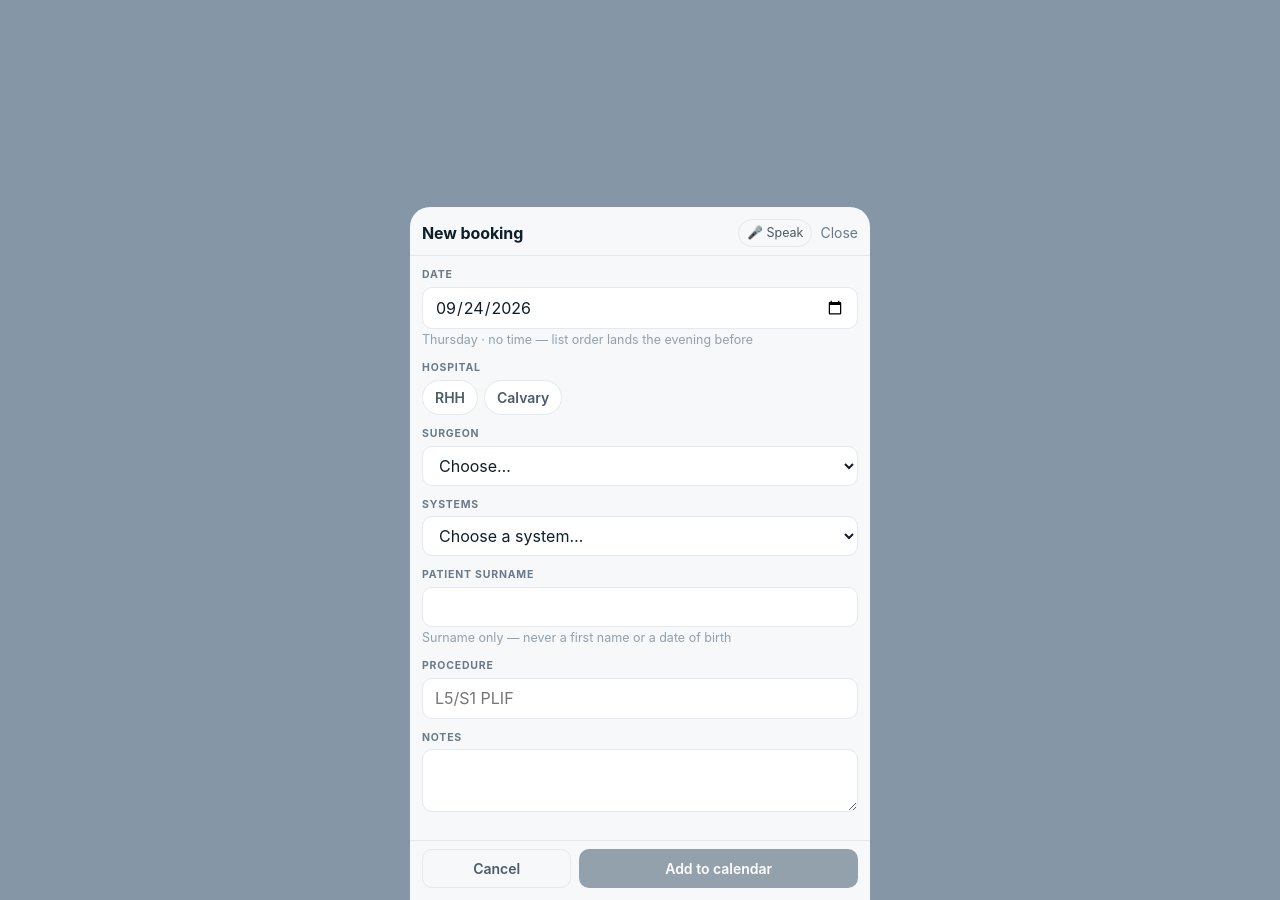
it: the question a booking raises › says nothing to order for the same system at RHH
This screenshot has width=1280, height=900.
Click the button "RHH" at (450, 397), box [422,380,478,415]
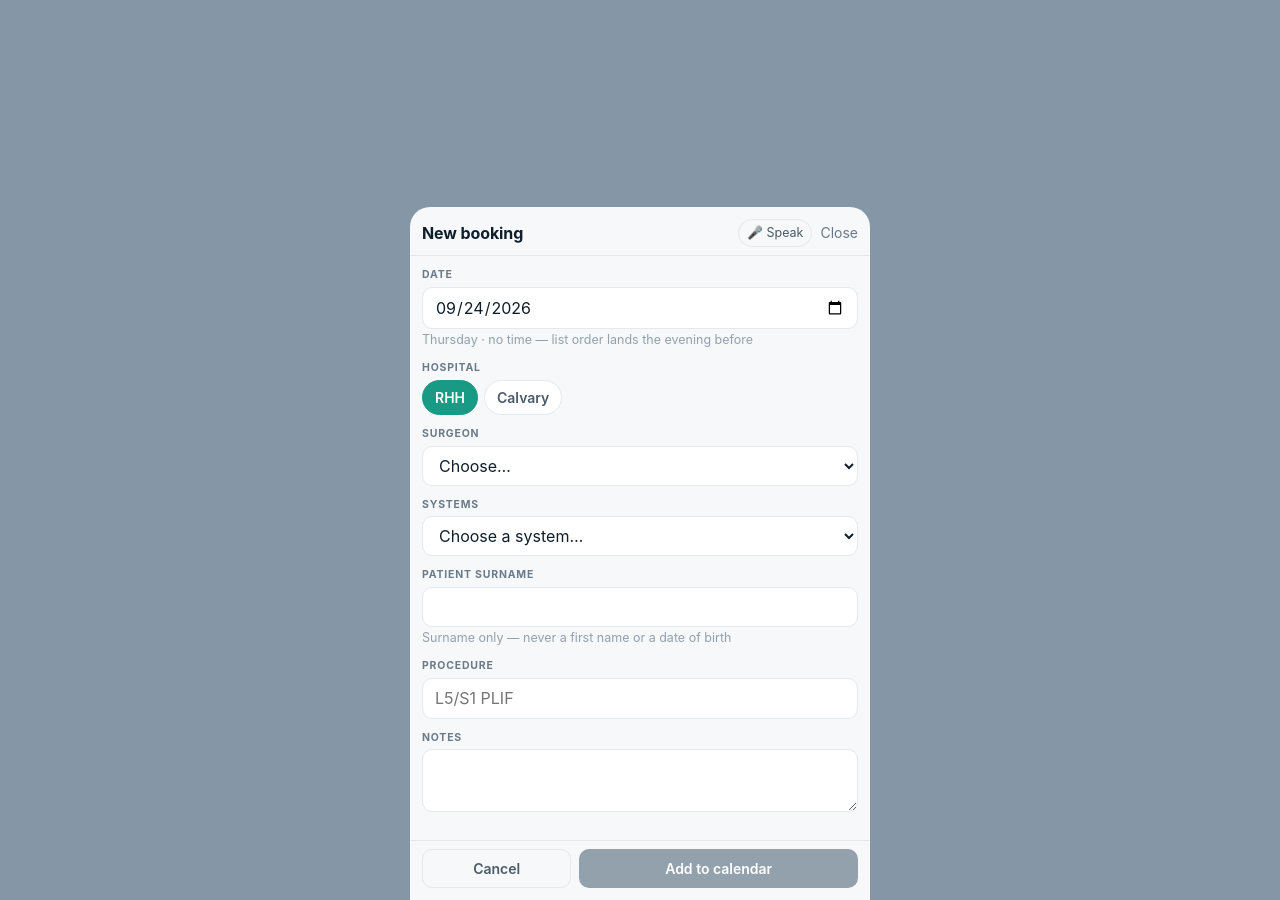
Select "Mariner" in the dropdown named "Add a system" at (640, 536), box [422,516,858,556]
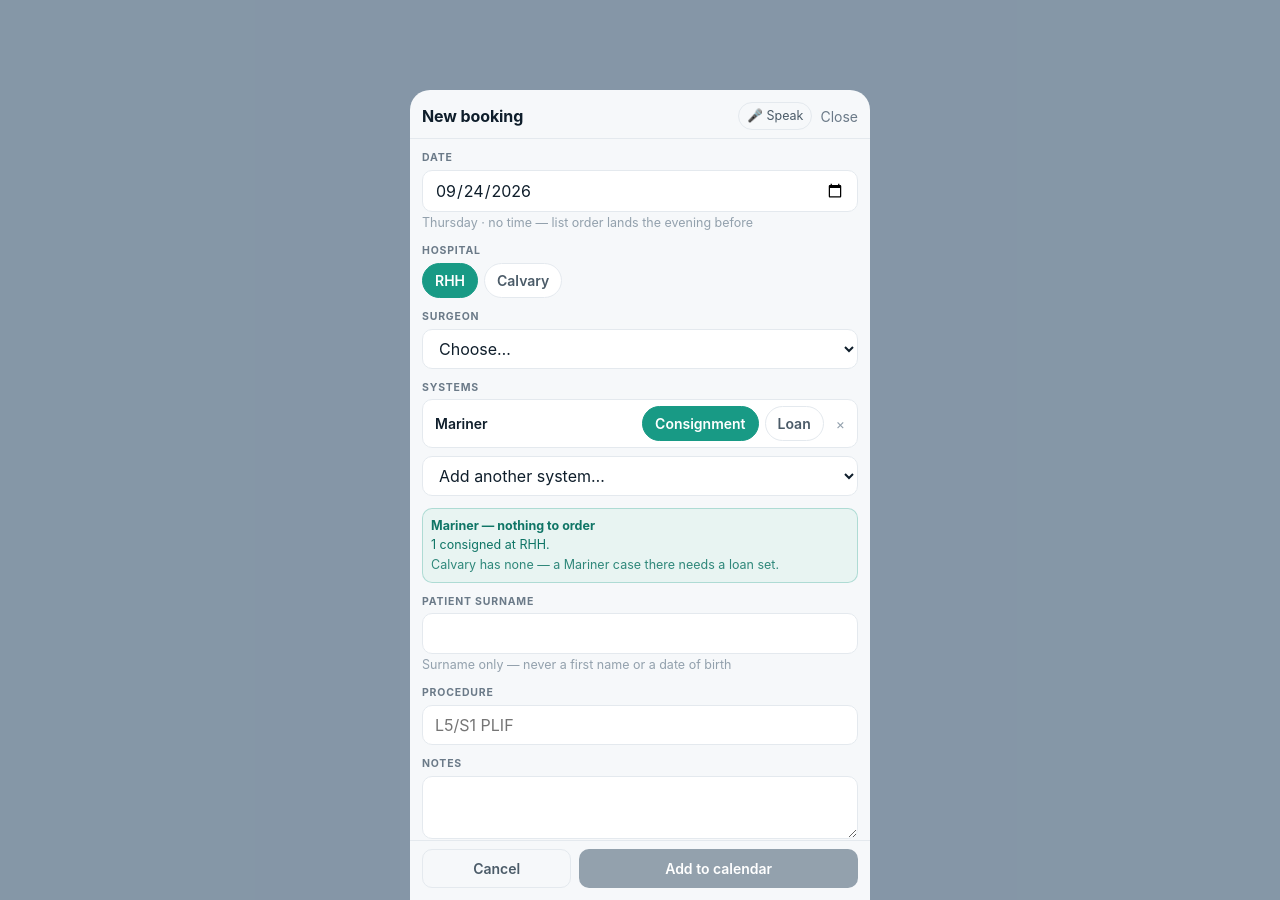
Expected: the text "Mariner — nothing to order" is shown, [431,518,595,533]
